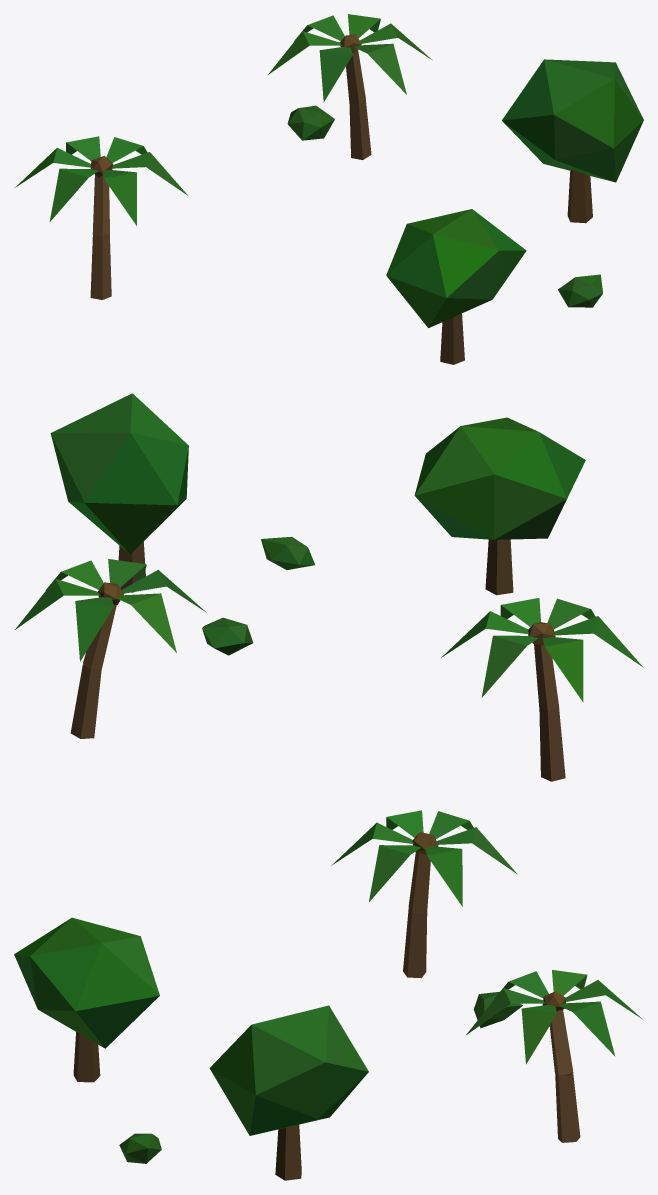
The model's file is HillJungle-Far.glb.
3 renders of one model, top to bottom at view 1: azimuth 30°, elevation 25°; view 2: azimuth 150°, elevation 25°; view 3: azimuth 270°, elevation 25°, orthographic. The views are drawn at different scales.
Visible parts, largest first — view 1: HillJungle-Far; view 2: HillJungle-Far; view 3: HillJungle-Far.
Boxes of the visible parts, <box> form: HillJungle-Far: <box>15,14,643,364</box>; HillJungle-Far: <box>15,393,643,781</box>; HillJungle-Far: <box>14,810,642,1180</box>.
Bounding box in the file's own units: 1.5 × 0.4487 × 1.42.
